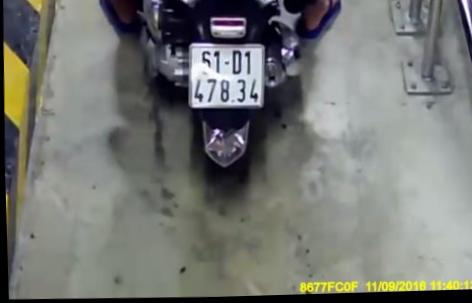LP: (185, 39, 267, 116)
